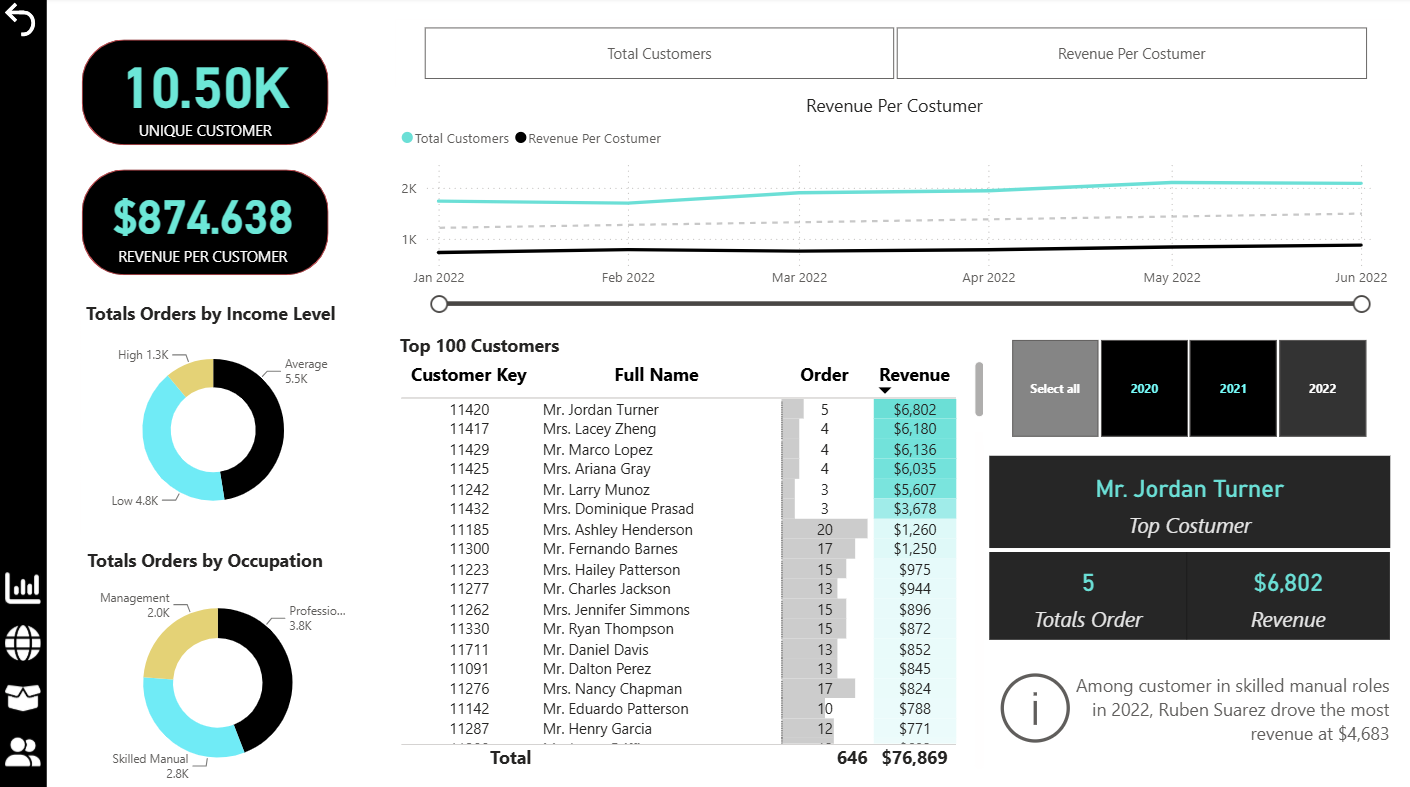

This screenshot's page, from the dashboard's own definition file:
{"tool":"powerbi","page":{"name":"Costumer Details","canvas":[1280,720],"ordinal":3},"visuals":[{"type":"shape","title":"Left Navigator","box":[0,0,43.8,720],"z":0},{"type":"shape","box":[75,37.8,222.6,95.4],"z":1000},{"type":"card","fields":{"Values":["Measure Table.Total Customers"]},"box":[51.4,14.7,270.2,140.6],"z":2000},{"type":"actionButton","box":[0,512.5,45.2,40.4],"z":2000,"group":"g1"},{"type":"shape","box":[75,155.2,222.6,95.4],"z":3000},{"type":"actionButton","box":[0,561.8,45.2,40.4],"z":3000,"group":"g1"},{"type":"card","fields":{"Values":["Measure Table.Average Revenue Per Costumer"]},"box":[62.4,133.3,245.8,140.6],"z":4000},{"type":"actionButton","box":[0,611.1,45.2,40.4],"z":4000,"group":"g1"},{"type":"lineChart","fields":{"Y":["Measure Table.Total Customers","Measure Table.Average Revenue Per Costumer"],"Category":["Calendar Lookup.Data Hierarchie.Start of Year","Calendar Lookup.Data Hierarchie.Start of Month","Calendar Lookup.Data Hierarchie.Start of Week","Calendar Lookup.Data Hierarchie.Date"]},"box":[358.6,85.2,899.8,201.6],"z":5000},{"type":"actionButton","box":[0,660.5,45.2,40.4],"z":5000,"group":"g1"},{"type":"donutChart","title":"Totals Orders by Income Level","fields":{"Y":["Measure Table.Totals Order"],"Category":["Customer Lookup.Income Level"]},"box":[74.6,273.9,239.7,211.6],"z":6000},{"type":"donutChart","title":"Totals Orders by Occupation","fields":{"Y":["Measure Table.Totals Order"],"Category":["Customer Lookup.Occupation"]},"box":[75.4,496.2,245.8,223.8],"z":7000},{"type":"tableEx","title":"Top 100 Customers","fields":{"Values":["Customer Lookup.CustomerKey","Customer Lookup.Full Name","Measure Table.Totals Order","Measure Table.Total Revenue"]},"box":[357.2,301.7,537.2,399.2],"z":8000},{"type":"card","fields":{"Values":["Min(Customer Lookup.Full Name)"]},"box":[893.3,413.3,362,83.2],"z":9000},{"type":"card","fields":{"Values":["Measure Table.Totals Order"]},"box":[893.3,499.9,178.5,79.5],"z":10000},{"type":"card","fields":{"Values":["Measure Table.Total Revenue"]},"box":[1071.8,499.9,183.4,79.5],"z":11000},{"type":"slicer","fields":{"Values":["Calendar Lookup.Year"]},"box":[887.6,301.7,369.4,101.5],"z":12000},{"type":"actionButton","box":[895.7,602.1,362.6,78.5],"z":13000},{"type":"actionButton","box":[0,0,41.6,40.4],"z":14000},{"type":"group","id":"g1","title":"Button Navigator","box":[0,512.5,45,188.8],"z":15000},{"type":"slicer","fields":{"Values":["Customer Metric Selection.Customer Metric Selection"]},"box":[358.6,20.3,899.8,60.9],"z":16000},{"type":"actionButton","box":[0,0,43.8,40],"z":17000}]}

Visuals, with their boxes on the page's 1280x720 design canvas (x1, y1, x2, y2). These are canvas units, not pixel positions in the 1410x787 screenshot, which may show the page scaled, cropped or inside an application window:
"Left Navigator" shape: <region>0, 0, 44, 720</region>
shape: <region>75, 38, 298, 133</region>
card - Measure Table.Total Customers: <region>51, 15, 322, 155</region>
actionButton: <region>0, 512, 45, 553</region>
shape: <region>75, 155, 298, 251</region>
actionButton: <region>0, 562, 45, 602</region>
card - Measure Table.Average Revenue Per Costumer: <region>62, 133, 308, 274</region>
actionButton: <region>0, 611, 45, 652</region>
lineChart - Measure Table.Total Customers x Measure Table.Average Revenue Per Costumer: <region>359, 85, 1258, 287</region>
actionButton: <region>0, 660, 45, 701</region>
"Totals Orders by Income Level" donutChart: <region>75, 274, 314, 486</region>
"Totals Orders by Occupation" donutChart: <region>75, 496, 321, 720</region>
"Top 100 Customers" tableEx: <region>357, 302, 894, 701</region>
card - Min(Customer Lookup.Full Name): <region>893, 413, 1255, 496</region>
card - Measure Table.Totals Order: <region>893, 500, 1072, 579</region>
card - Measure Table.Total Revenue: <region>1072, 500, 1255, 579</region>
slicer - Calendar Lookup.Year: <region>888, 302, 1257, 403</region>
actionButton: <region>896, 602, 1258, 681</region>
actionButton: <region>0, 0, 42, 40</region>
"Button Navigator" group: <region>0, 512, 45, 701</region>
slicer - Customer Metric Selection.Customer Metric Selection: <region>359, 20, 1258, 81</region>
actionButton: <region>0, 0, 44, 40</region>
